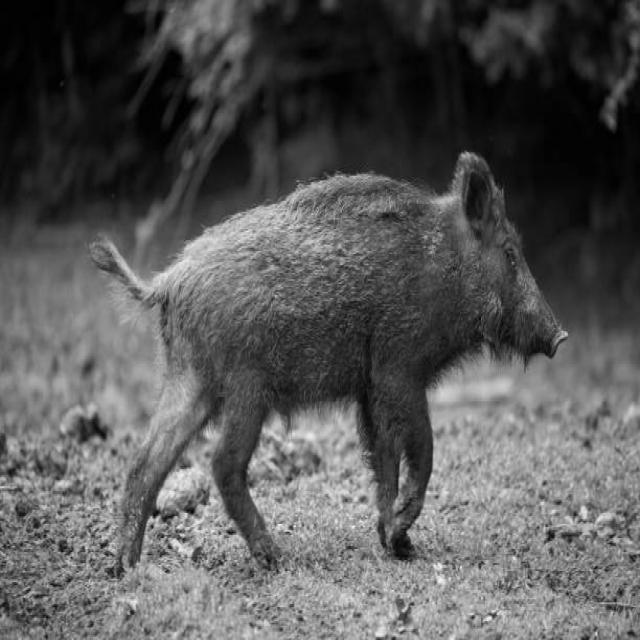boar: (91, 152, 568, 565)
